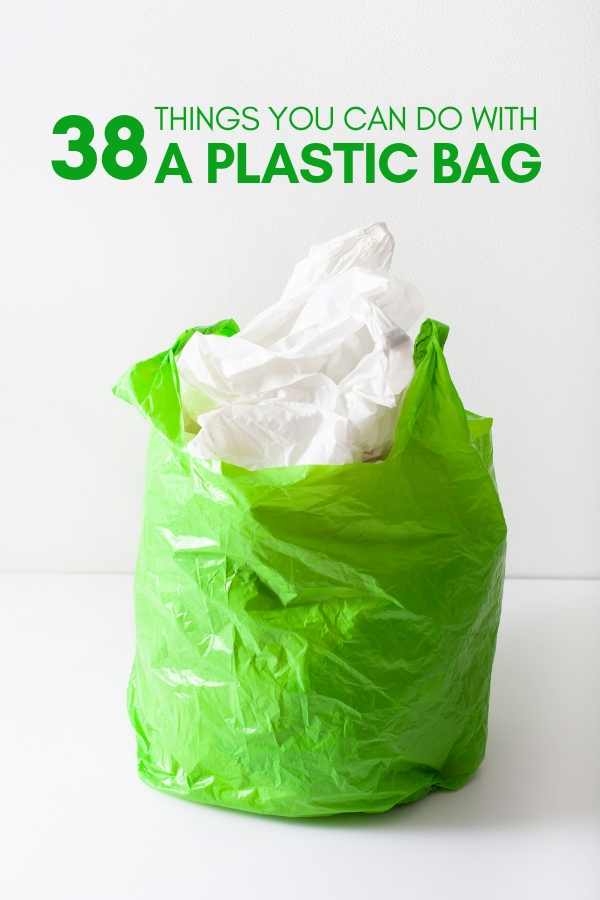plastic_bagwdw: (43, 225, 536, 900)
